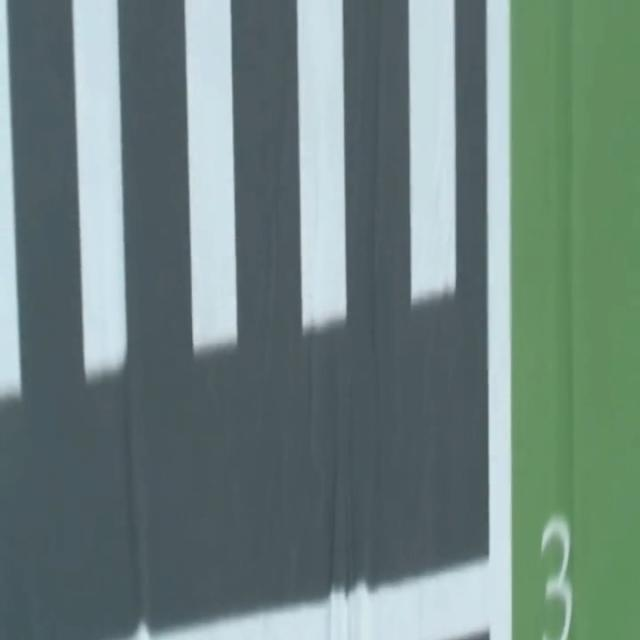right: (486, 0, 511, 639)
